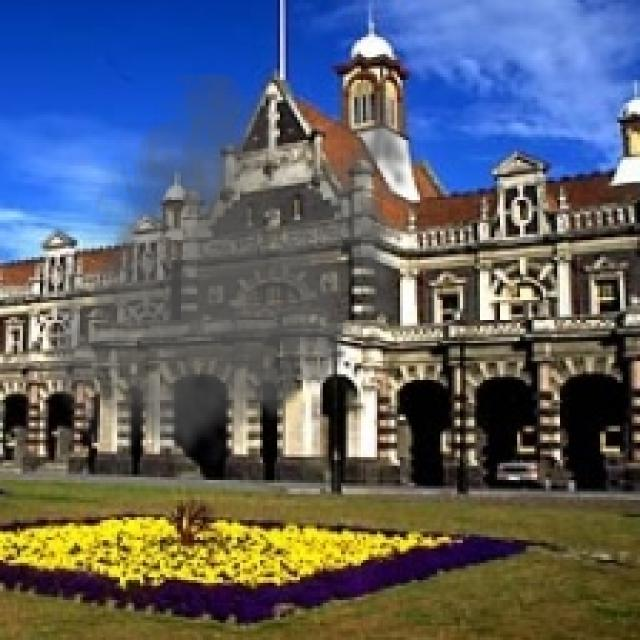smoke: (40, 74, 420, 477)
